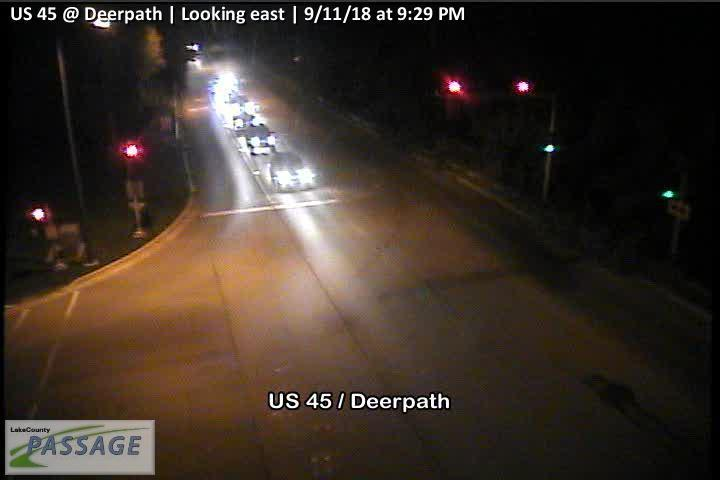Sedan: (266, 151, 315, 192), (245, 125, 276, 154), (230, 109, 261, 129)
